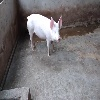heo: (24, 12, 64, 58)
